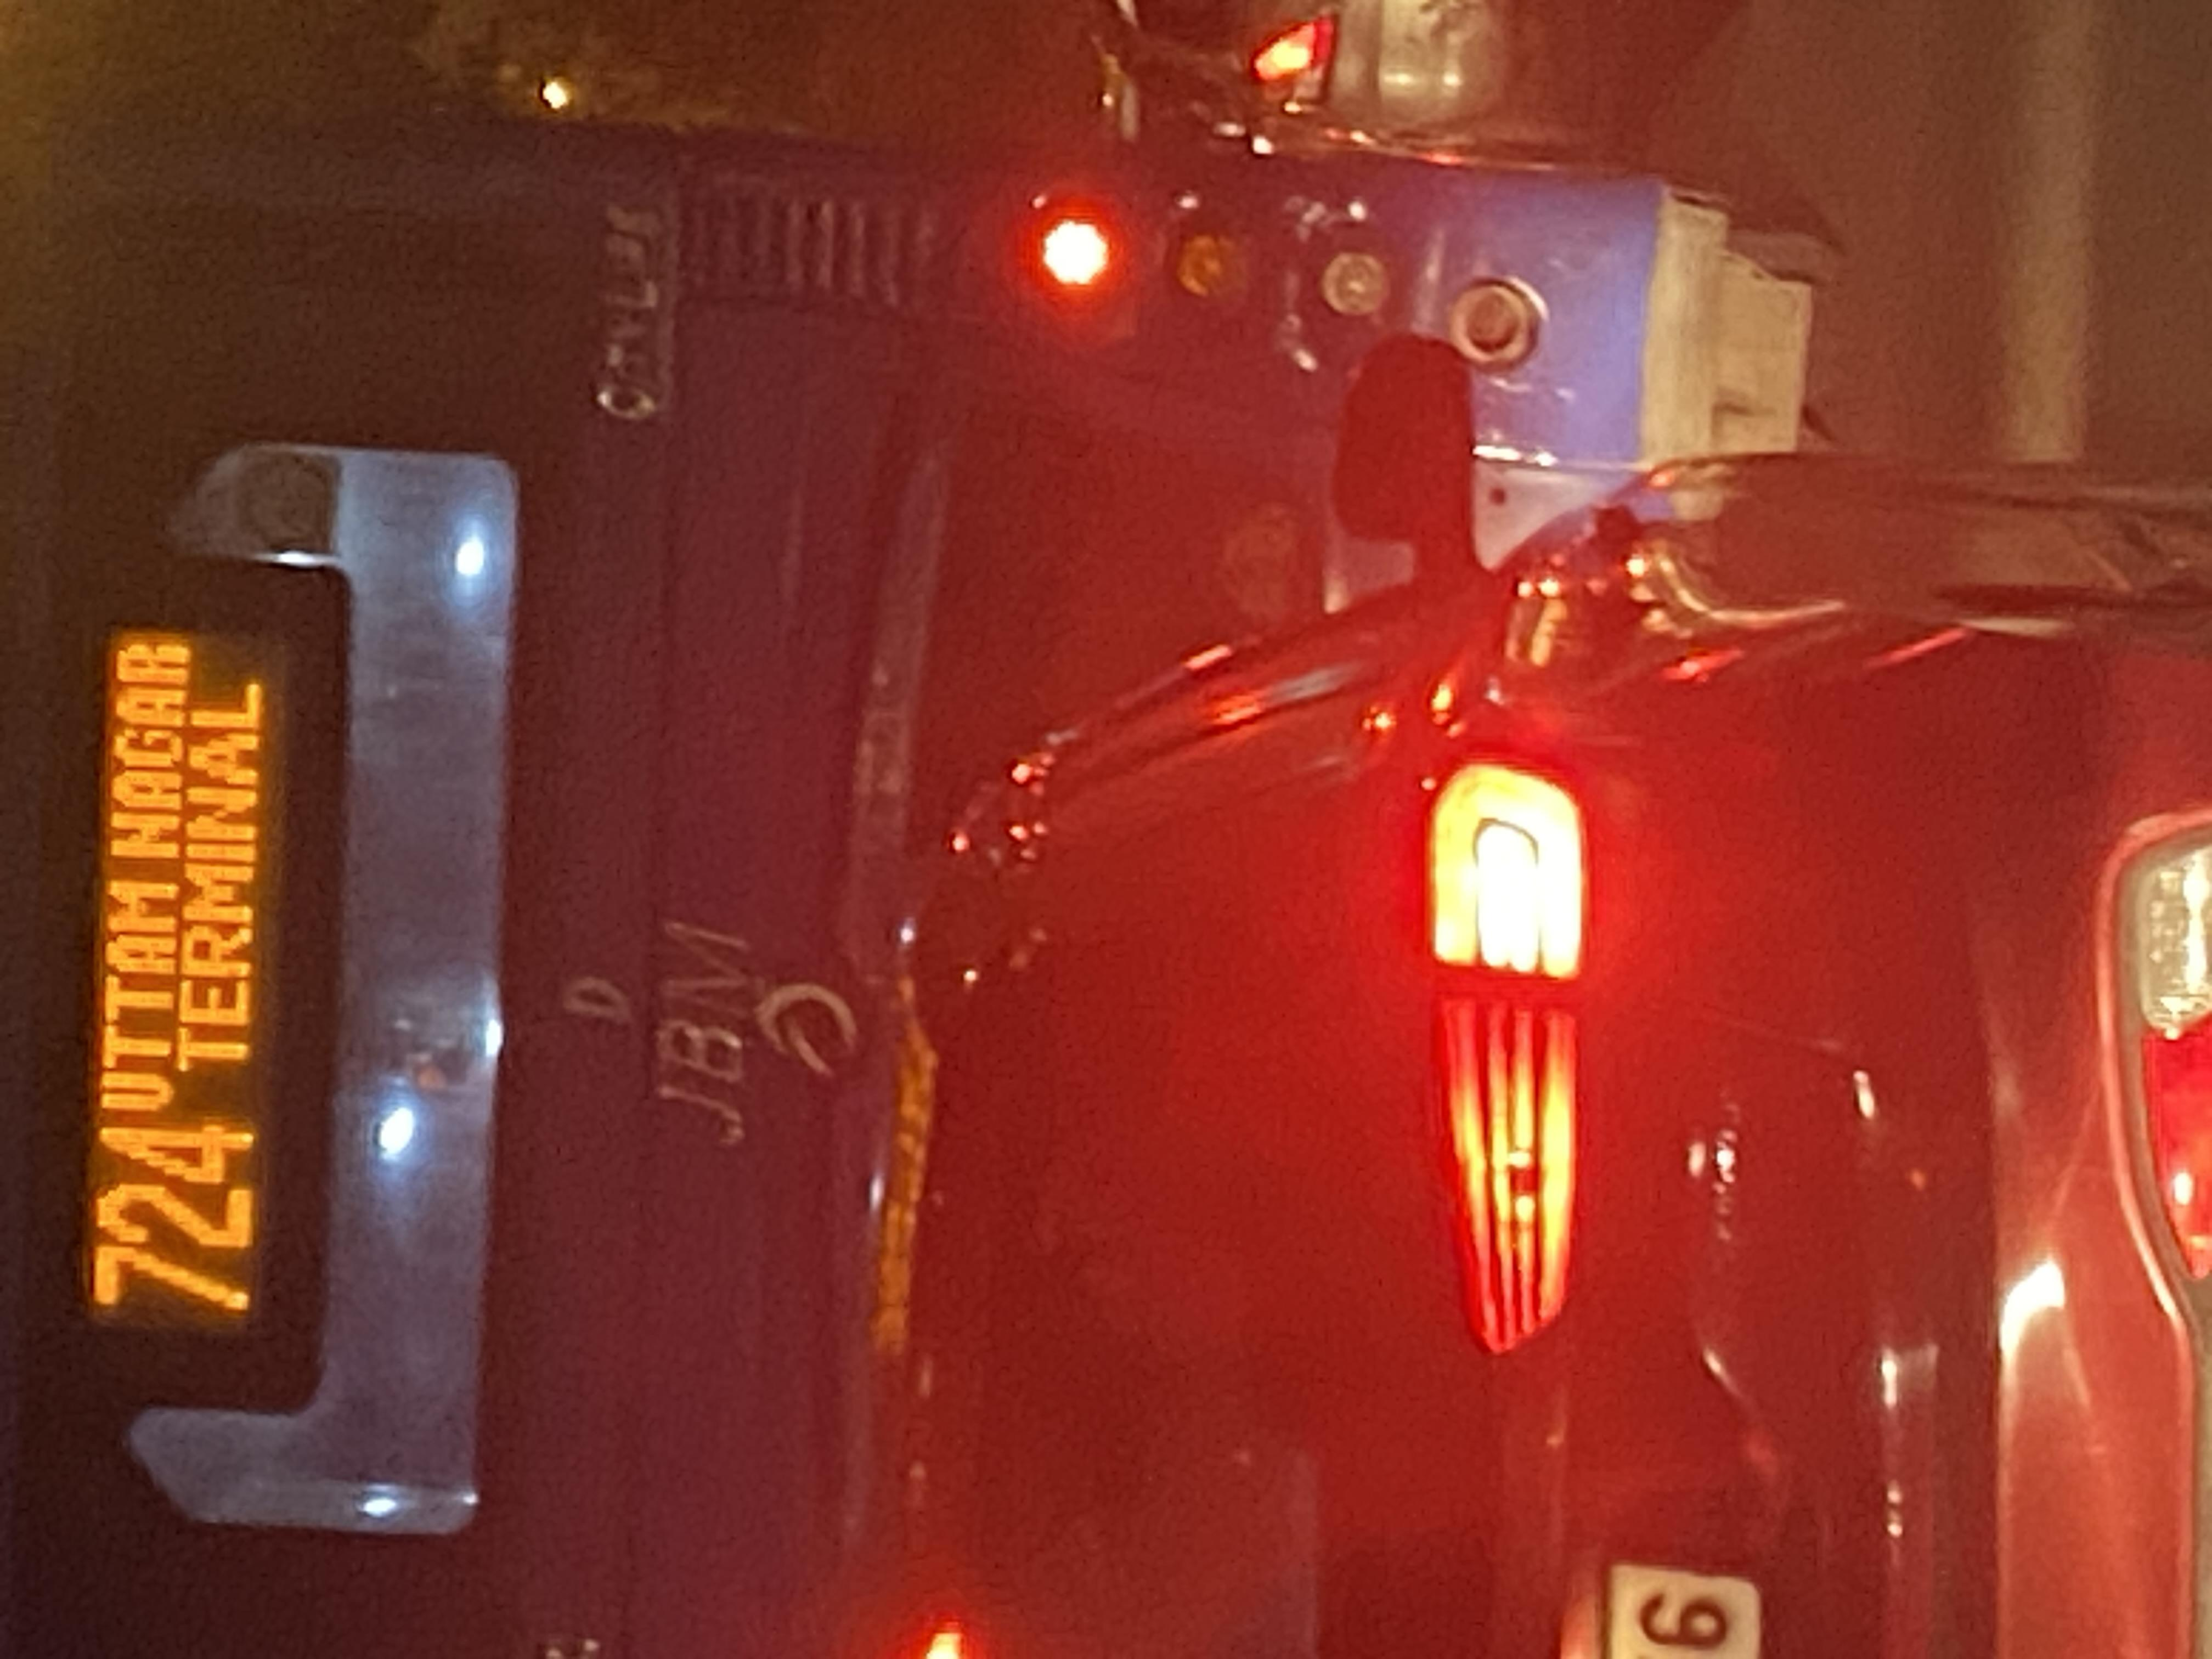Bus: (0, 54, 1898, 1624)
Display Board: (54, 526, 357, 1420)
